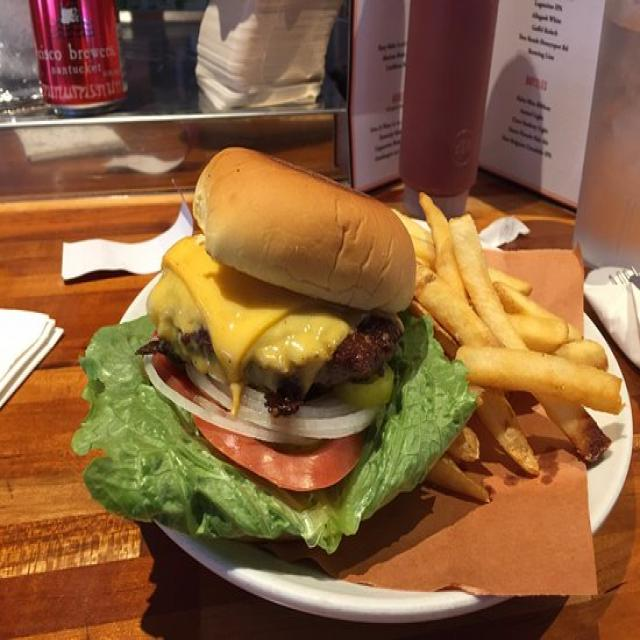Burger: (144, 141, 410, 507)
French Fries: (405, 205, 619, 490)
